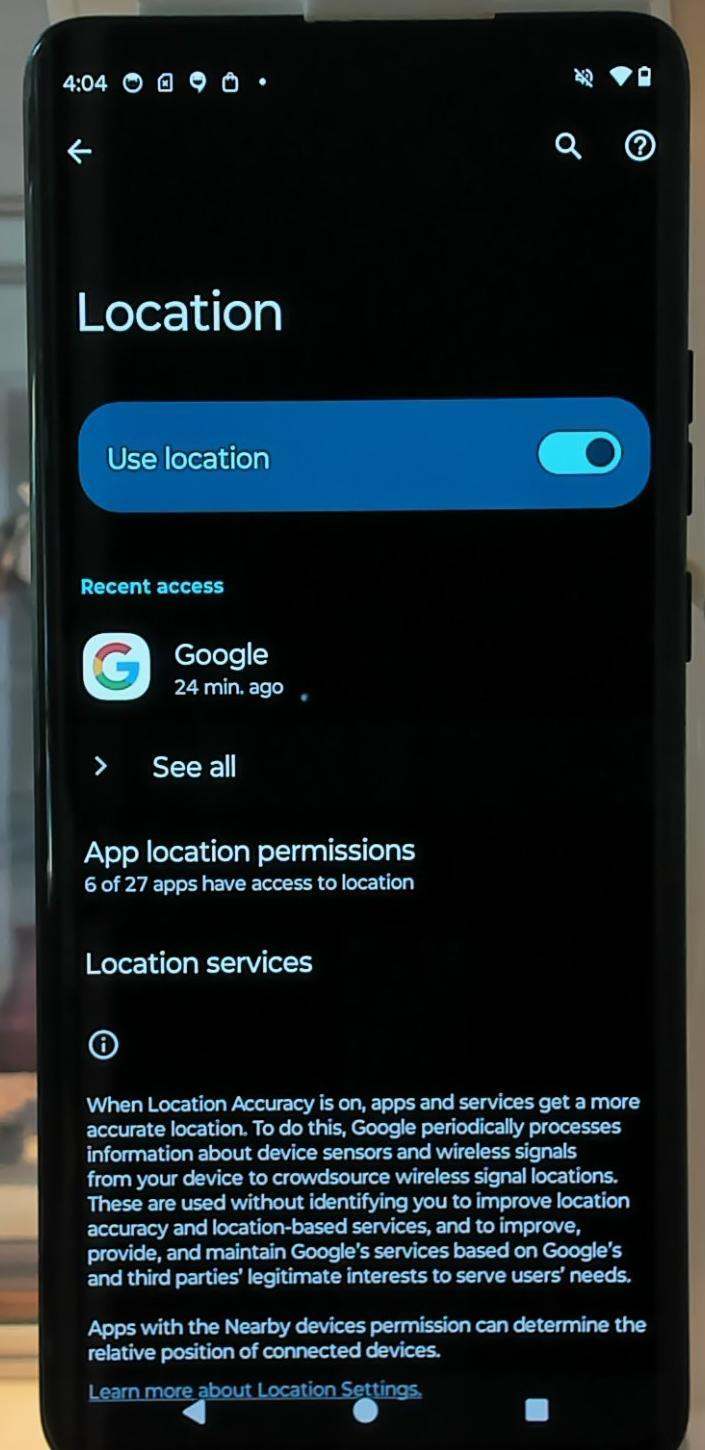Checkbox: (100, 422, 633, 484)
